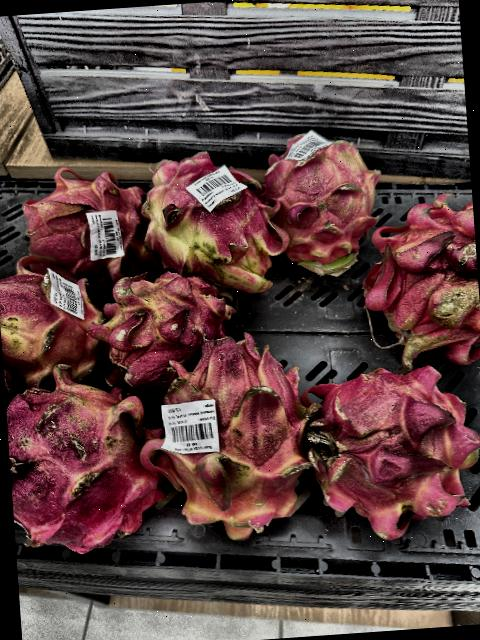buah-naga-belum-matang: (148, 330, 316, 540), (138, 148, 278, 296), (255, 123, 387, 274), (86, 260, 240, 370), (0, 246, 114, 393)
buah-naga-matang: (295, 339, 480, 550), (2, 354, 172, 558), (357, 175, 480, 379), (16, 158, 152, 285)
